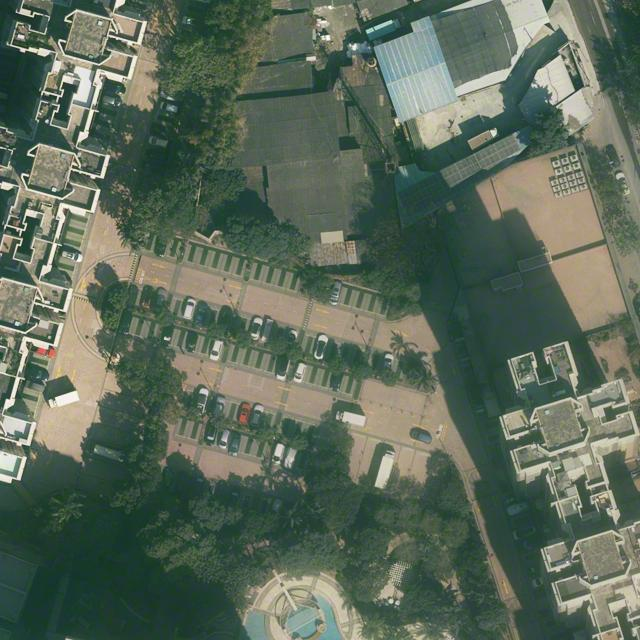panel: (396, 134, 522, 210), (405, 160, 506, 216)
